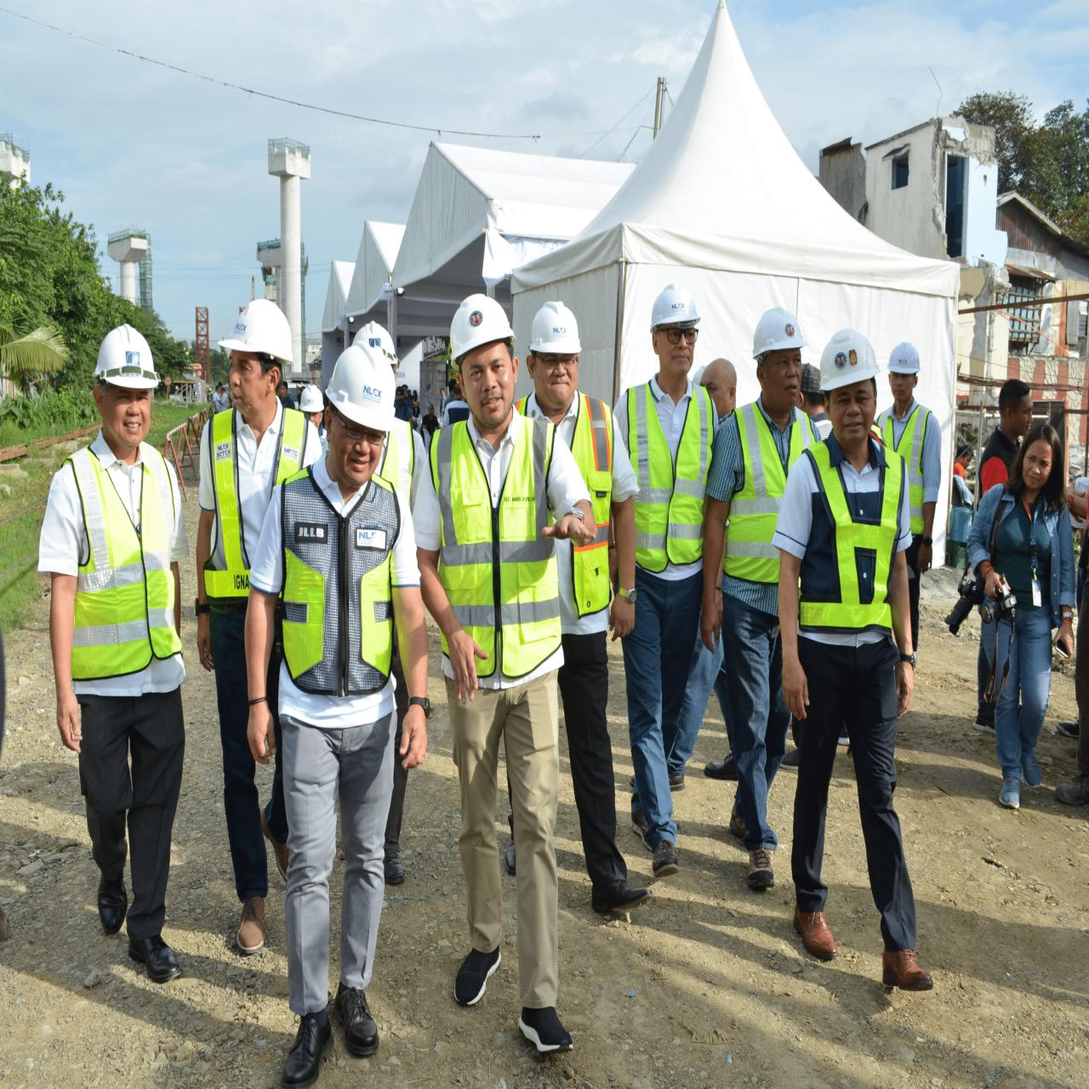NO_Safety_Vest: (993, 485, 1060, 621), (981, 428, 1024, 493)
Person: (415, 281, 596, 1066), (249, 341, 434, 1081), (35, 310, 190, 986), (774, 322, 927, 1002), (517, 287, 654, 933), (192, 292, 321, 959), (606, 274, 726, 881), (702, 299, 824, 895), (964, 415, 1083, 812), (667, 354, 740, 790), (973, 374, 1042, 730), (874, 337, 945, 667), (291, 376, 333, 455)
Safety_Vest: (432, 416, 568, 682), (58, 445, 187, 692), (277, 456, 403, 701), (201, 403, 312, 611), (515, 392, 617, 613), (799, 442, 902, 639), (623, 380, 712, 581), (725, 405, 820, 591), (877, 406, 935, 541)
